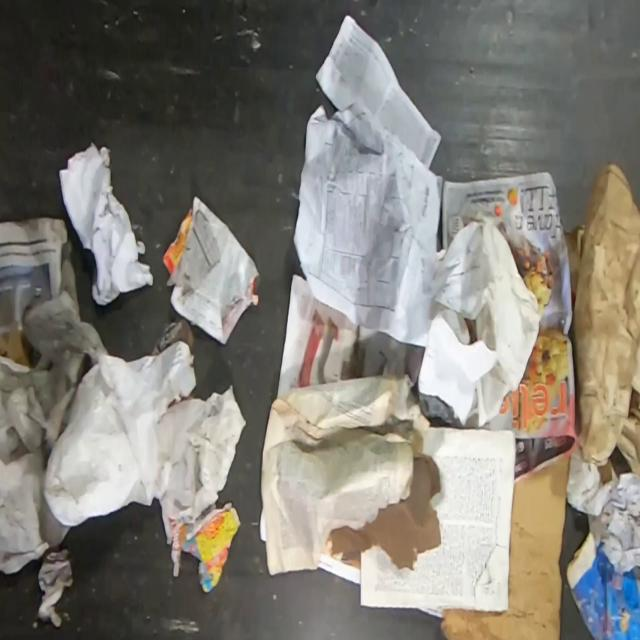cardboard: (440, 452, 571, 640), (564, 529, 640, 640)
